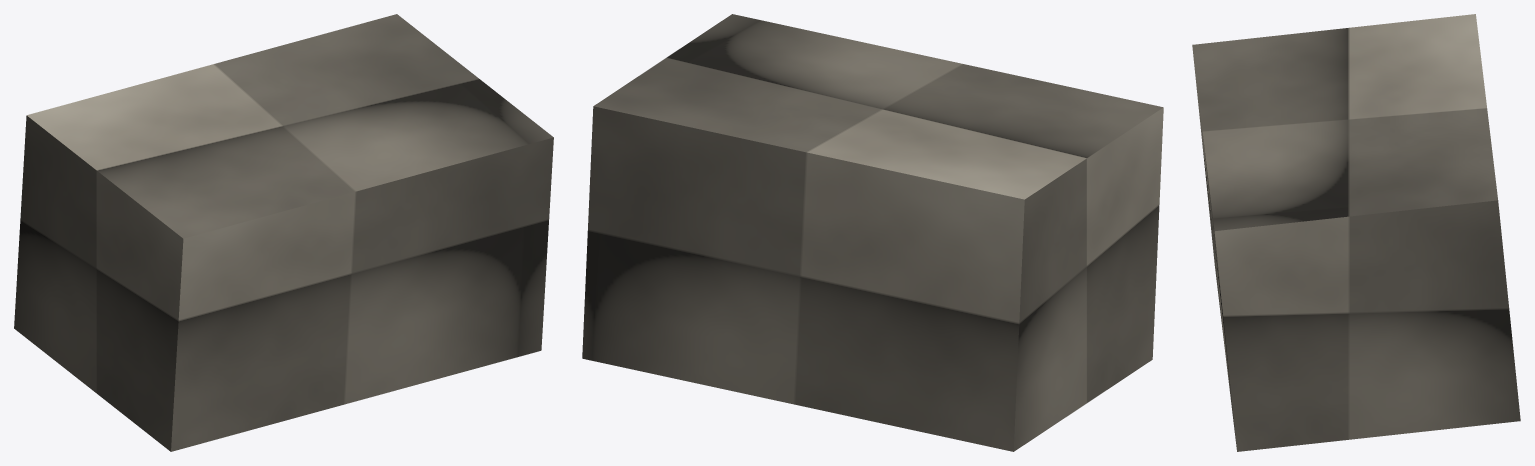
The model's file is Prop_Brick1_LOD2.gltf.
3 views of the same model, side by side, from view 1: azimuth 30°, elevation 25°; view 2: azimuth 150°, elevation 25°; view 3: azimuth 270°, elevation 25° (orthographic). The views are drawn at different scales.
Parts seen in each view (by area): view 1: Prop_Brick1_LOD2; view 2: Prop_Brick1_LOD2; view 3: Prop_Brick1_LOD2.
Boxes of the visible parts, x1,y1,x2,y2 form: Prop_Brick1_LOD2: [14, 14, 553, 451]; Prop_Brick1_LOD2: [582, 14, 1163, 451]; Prop_Brick1_LOD2: [1192, 14, 1520, 451].
Bounding box in the file's own units: 0.35 × 0.2055 × 0.25.
1 material, 1 textured.
